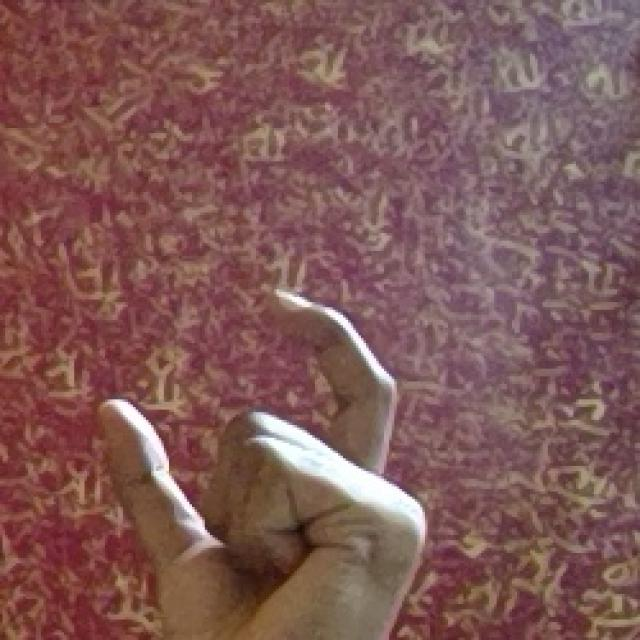Alphabet-U: (71, 262, 447, 640)
